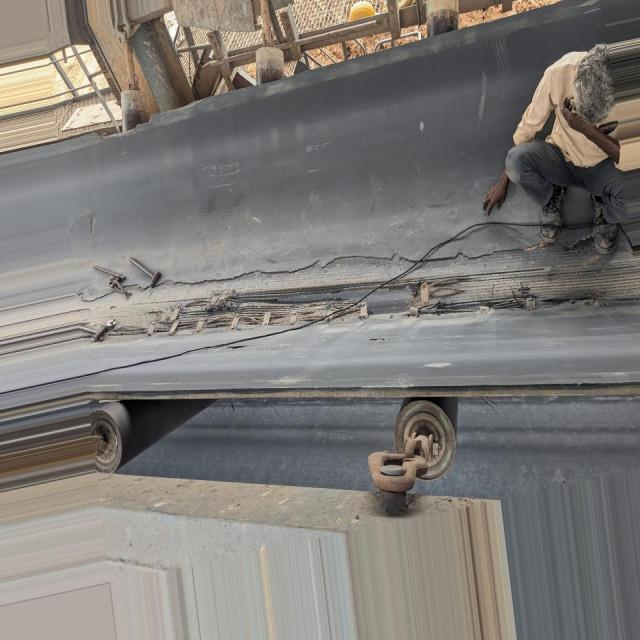Human: (476, 52, 619, 253)
Other Objects: (82, 248, 165, 288)
Roller: (92, 393, 225, 472), (391, 393, 468, 478), (426, 0, 459, 33), (256, 50, 289, 82)
Tear: (82, 247, 578, 337)
